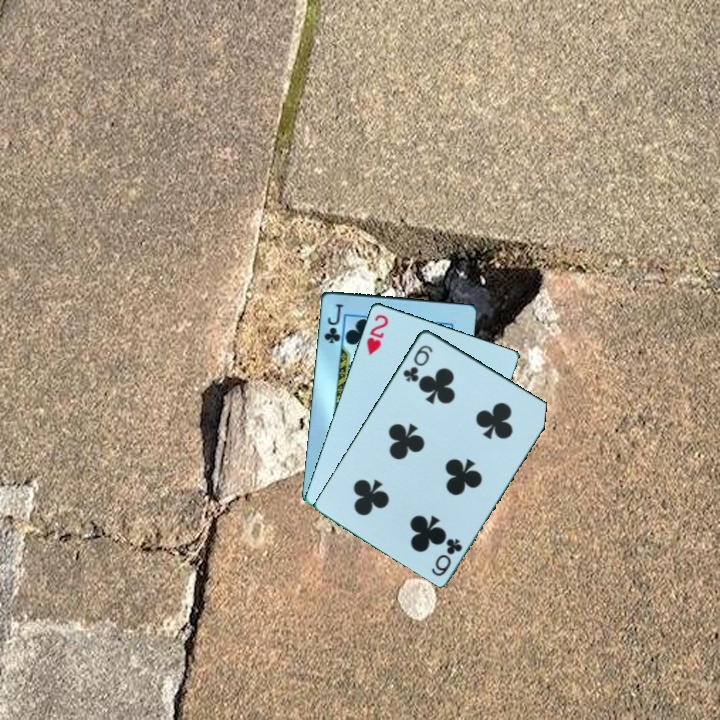2h: (363, 310, 391, 358)
6c: (427, 534, 465, 579), (399, 341, 436, 385)
Jc: (320, 300, 345, 346)
